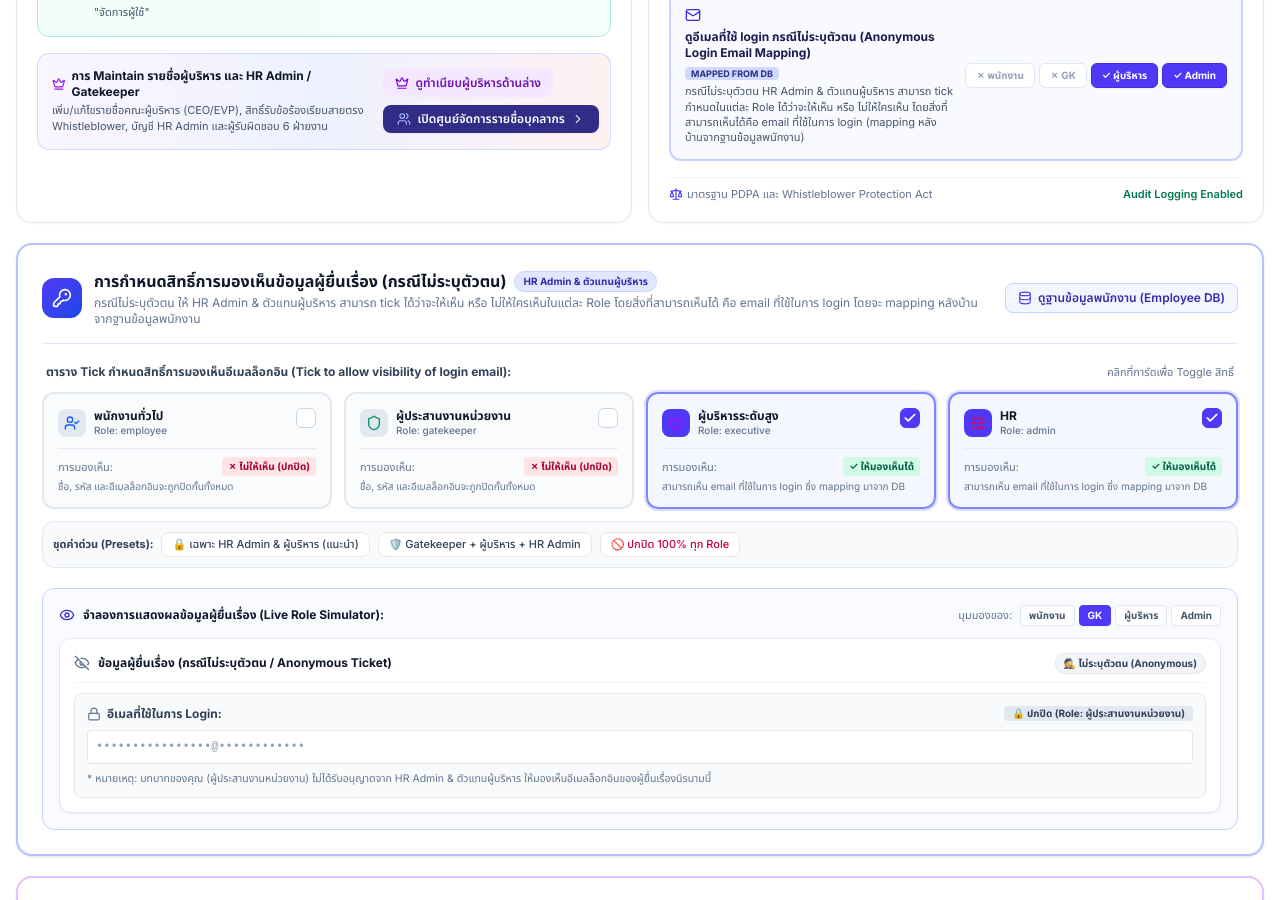
Test: RoleBasedAccessManagement › permission matrix › reverts the optimistic change and warns when the save is rejected
This screenshot has width=1280, height=900.
(page scrolled)
Click the button "Role: employee". click: [187, 451]
box: [42,392,332,509]
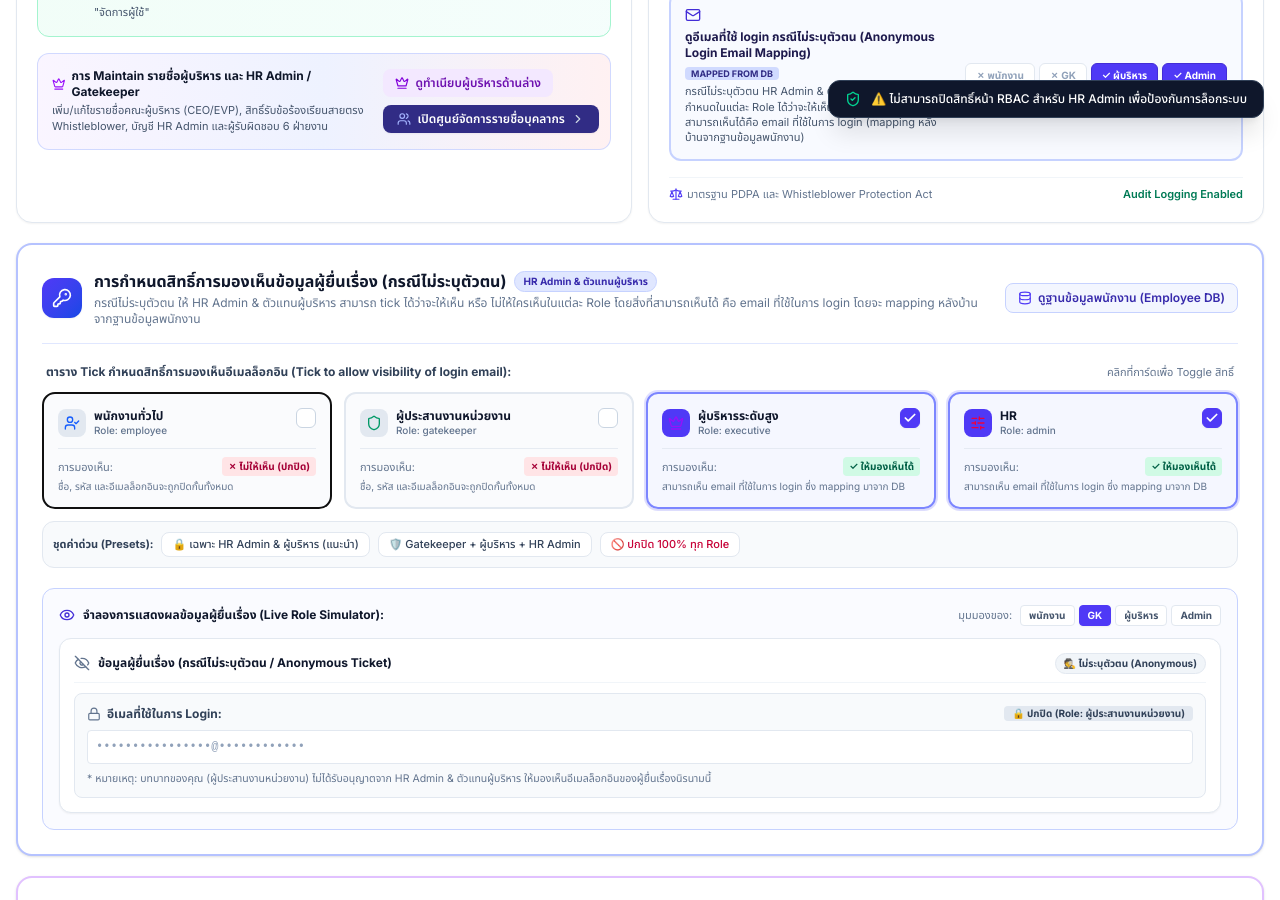
Expected: the text "⚠️ ไม่สามารถปิดสิทธิ์หน้า RBAC สำหรับ HR Admin เพื่อป้องกันการล็อกระบบ" is shown, [871,91,1247,107]
